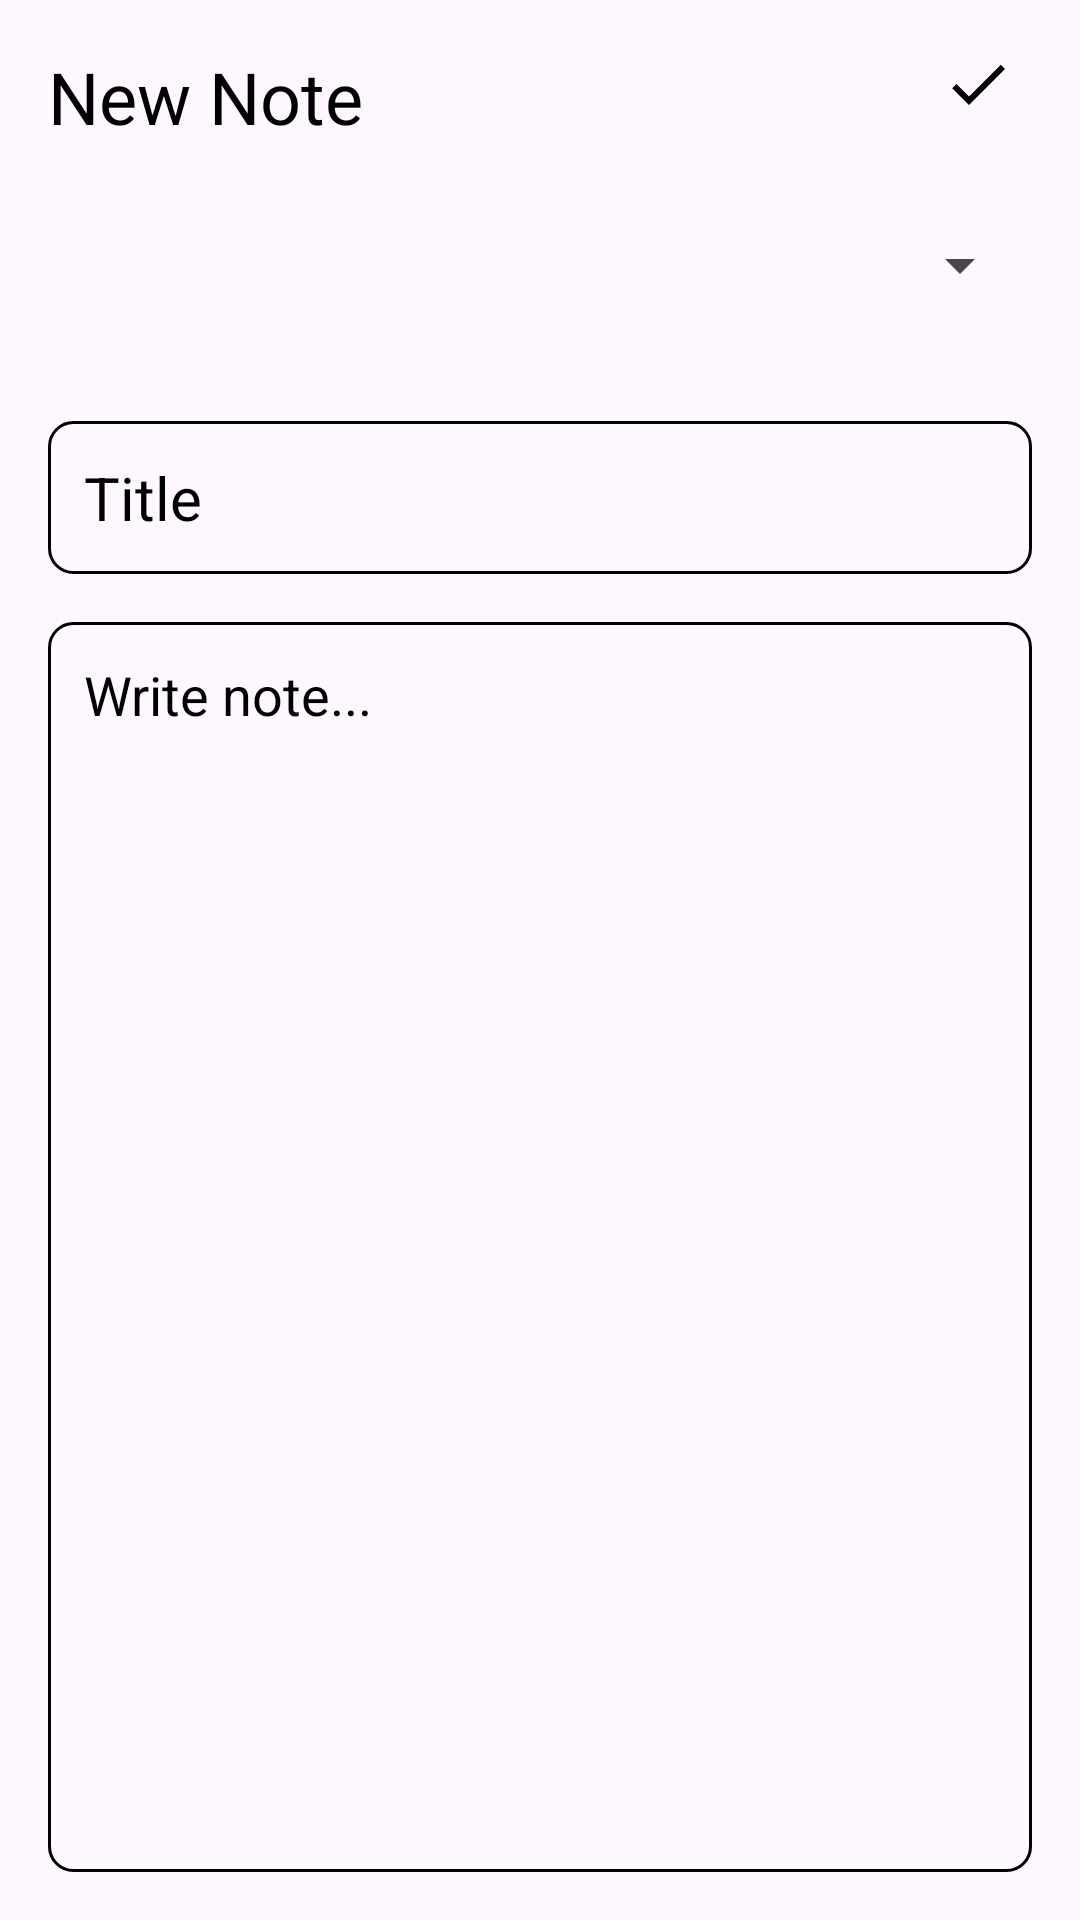

Locate icon controls on the screen. Image size 1080w x 1920h, boxes as (x1, y1, x2, y2).
done: (952, 65, 1005, 105)
